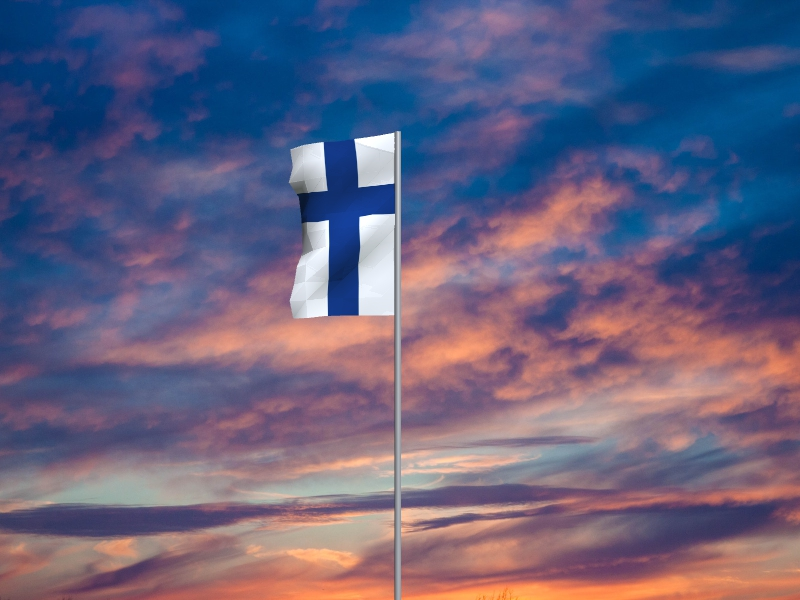fi: (289, 134, 394, 321)
